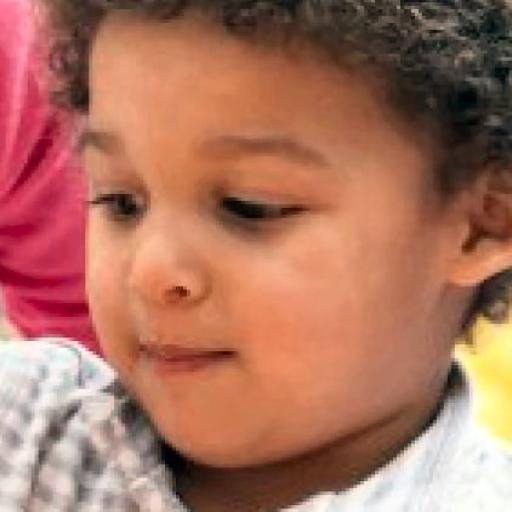Autism: (2, 2, 512, 512)
